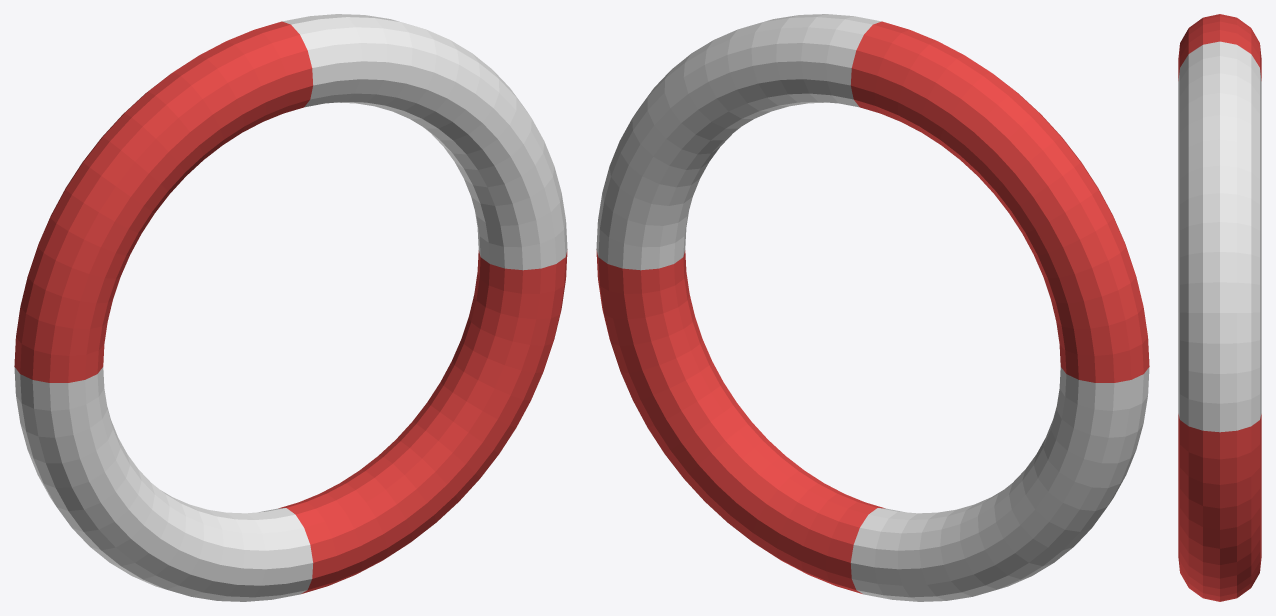
The model's file is ring.fbx.
The picture shows the model from 3 angles, left to right: view 1: azimuth 30°, elevation 25°; view 2: azimuth 150°, elevation 25°; view 3: azimuth 270°, elevation 25°; orthographic projection. The views are drawn at different scales.
Visible parts, largest first — view 1: Torus.001; view 2: Torus.001; view 3: Torus.001.
Boxes of the visible parts, x1,y1,x2,y2 form: Torus.001: (14,14,567,601); Torus.001: (596,14,1149,601); Torus.001: (1178,14,1261,601).
Bounding box in the file's own units: 350 × 350 × 49.73.
